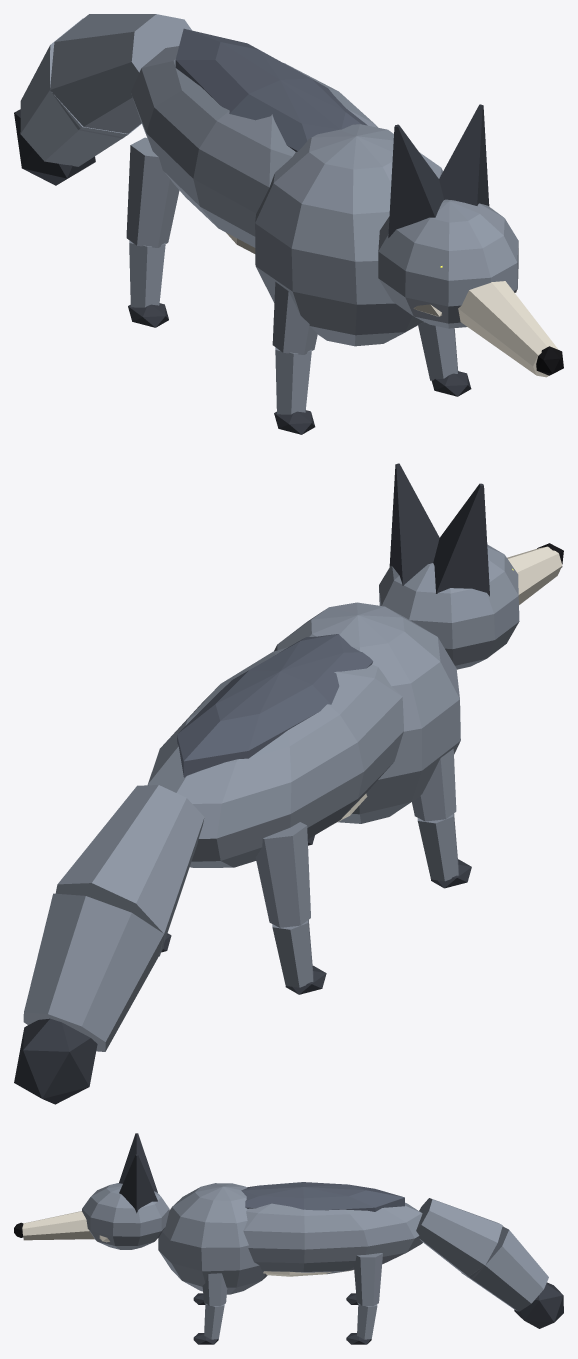
The model's file is wolf.glb.
3 renders of one model, top to bottom at view 1: azimuth 30°, elevation 25°; view 2: azimuth 150°, elevation 25°; view 3: azimuth 270°, elevation 25°, orthographic. The views are drawn at different scales.
Parts seen in each view (by area): view 1: body, head, tail, leg_br, leg_fr, ear_r, ear_l, leg_fl; view 2: body, tail, head, leg_br, leg_fr, ear_r, ear_l; view 3: body, tail, head, leg_bl, leg_fl, ear_l, ear_r.
Part boxes in pixels (box(x1,y1,x2,y2)): body: box(131, 28, 442, 346); head: box(378, 199, 563, 377); tail: box(14, 14, 191, 185); leg_br: box(126, 137, 179, 327); leg_fr: box(272, 282, 317, 434); ear_r: box(388, 124, 444, 237); ear_l: box(439, 104, 489, 206); leg_fl: box(418, 322, 471, 396); body: box(147, 602, 460, 867); tail: box(14, 785, 204, 1104); head: box(379, 543, 563, 669); leg_br: box(255, 822, 326, 994); leg_fr: box(412, 749, 471, 888); ear_r: box(433, 483, 489, 596); ear_l: box(389, 463, 439, 585); body: box(158, 1182, 422, 1294); tail: box(416, 1198, 563, 1328); head: box(14, 1183, 169, 1249); leg_bl: box(346, 1253, 382, 1344); leg_fl: box(193, 1273, 227, 1344); ear_l: box(119, 1154, 157, 1213); ear_r: box(119, 1133, 157, 1192).
Size of the model in its own units: 0.6409 by 1.15 by 3.09.
